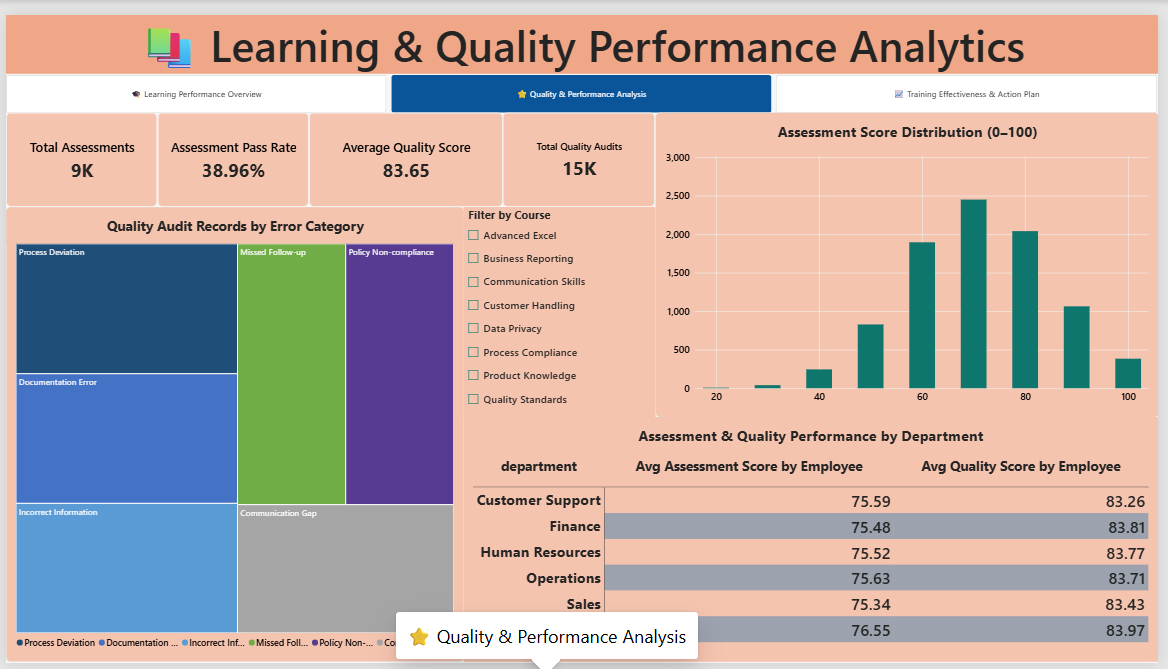

Layout of this report page (visuals, bound fields, positions):
{"tool":"powerbi","page":{"name":"⭐ Quality & Performance Analysis","canvas":[1920,1080],"ordinal":1},"visuals":[{"type":"textbox","box":[0,0,1920.5,97.7],"z":0},{"type":"pageNavigator","box":[0,100,1920.5,63.6],"z":1000},{"type":"cardVisual","fields":{"Data":["Clean_Assessments.Total Assessments"]},"box":[0,163.2,252.6,157.9],"z":2000},{"type":"cardVisual","fields":{"Data":["Clean_Assessments.Assessment Pass Rate"]},"box":[252.6,163.2,252.6,157.9],"z":3000},{"type":"cardVisual","fields":{"Data":["Clean_Assessments.Average Quality Score"]},"box":[505.3,163.2,323.7,157.9],"z":4000},{"type":"cardVisual","fields":{"Data":["Clean_Assessments.Total Quality Audits"]},"box":[828.6,162.9,254.3,157.1],"z":5000},{"type":"clusteredColumnChart","title":"Assessment Score Distribution (0–100)","fields":{"Category":["Clean_Assessments.score (bins)"],"Y":["CountNonNull(Clean_Assessments.assessment_id)"]},"box":[1081.6,163.2,839.5,507.9],"z":6000},{"type":"pivotTable","title":"Assessment & Quality Performance by Department","fields":{"Rows":["Clean_Employees.department"],"Values":["Clean_Assessments.Avg Assessment Score by Employee","Clean_Assessments.Avg Quality Score by Employee"]},"box":[763.2,671.1,1157.9,407.9],"z":7000},{"type":"treemap","title":"Quality Audit Records by Error Category","fields":{"Group":["Clean_Quality_Audits.error_category"],"Values":["CountNonNull(Clean_Quality_Audits.audit_id)"]},"box":[0,321.1,763.2,757.9],"z":8000},{"type":"slicer","fields":{"Values":["Clean_Assessments.course_name"]},"box":[762.9,320,320,351.4],"z":9000}]}

Visuals, with their boxes on the page's 1920x1080 design canvas (x1, y1, x2, y2). These are canvas units, not pixel positions in the 1168x669 screenshot, which may show the page scaled, cropped or inside an application window:
textbox: <region>0, 0, 1920, 98</region>
pageNavigator: <region>0, 100, 1920, 164</region>
cardVisual - Clean_Assessments.Total Assessments: <region>0, 163, 253, 321</region>
cardVisual - Clean_Assessments.Assessment Pass Rate: <region>253, 163, 505, 321</region>
cardVisual - Clean_Assessments.Average Quality Score: <region>505, 163, 829, 321</region>
cardVisual - Clean_Assessments.Total Quality Audits: <region>829, 163, 1083, 320</region>
"Assessment Score Distribution (0–100)" clusteredColumnChart: <region>1082, 163, 1921, 671</region>
"Assessment & Quality Performance by Department" pivotTable: <region>763, 671, 1921, 1079</region>
"Quality Audit Records by Error Category" treemap: <region>0, 321, 763, 1079</region>
slicer - Clean_Assessments.course_name: <region>763, 320, 1083, 671</region>
